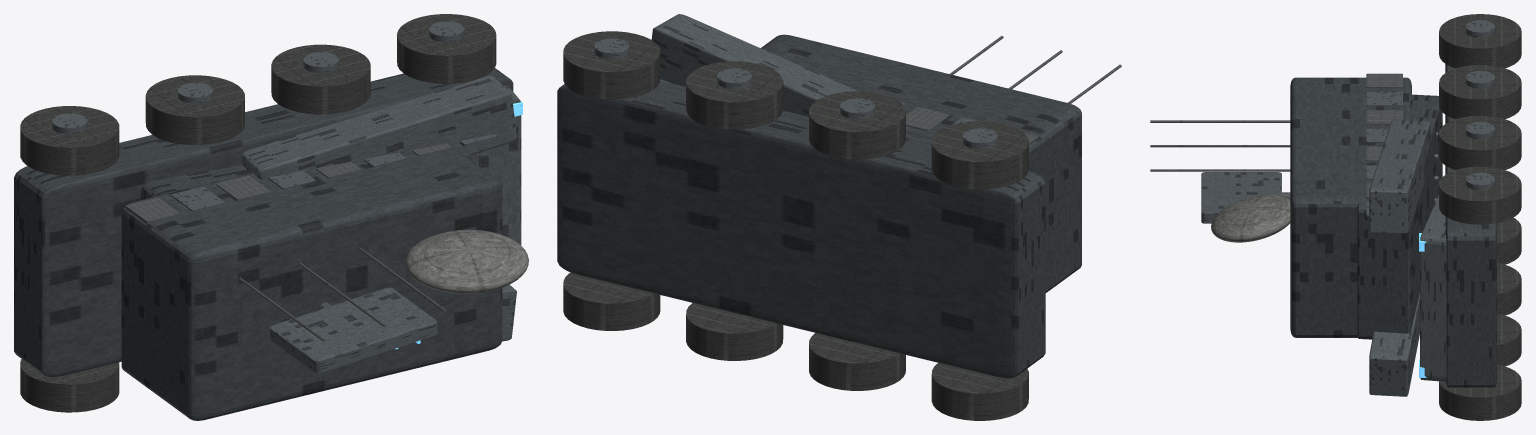
The model's file is s-u21-specter-command-vehicle-lod0.glb.
3 renders of one model, left to right at view 1: azimuth 30°, elevation 25°; view 2: azimuth 150°, elevation 25°; view 3: azimuth 270°, elevation 25°, orthographic. The views are drawn at different scales.
Parts seen in each view (by area): view 1: command_body, chassis_lower, stealth_cheek_1, command_array_array, command_dish, chassis_wheel_1_0, chassis_wheel_1_2, chassis_wheel_1_3, chassis_wheel_1_1, chassis_wheel_-1_0, chassis_nose, stealth_upper_hull (+9 smaller); view 2: chassis_lower, command_body, stealth_cheek_1, chassis_wheel_1_0, chassis_wheel_1_3, chassis_wheel_1_2, chassis_wheel_1_1, chassis_wheel_-1_0, chassis_wheel_-1_3, chassis_wheel_-1_2, chassis_wheel_-1_1, service_hatch_2 (+4 smaller); view 3: command_body, stealth_upper_hull, chassis_lower, stealth_cheek_1, chassis_nose, chassis_wheel_1_3, chassis_wheel_1_2, chassis_wheel_1_0, chassis_wheel_1_1, stealth_cheek_-1, chassis_wheel_-1_3, command_dish (+14 smaller).
Part boxes in pixels (x1,y1,x2,y2): command_body: [121, 147, 502, 420]; chassis_lower: [14, 68, 513, 376]; stealth_cheek_1: [241, 76, 516, 179]; command_array_array: [269, 287, 437, 373]; command_dish: [405, 229, 528, 293]; chassis_wheel_1_0: [20, 106, 119, 175]; chassis_wheel_1_2: [271, 44, 370, 114]; chassis_wheel_1_3: [397, 14, 496, 83]; chassis_wheel_1_1: [145, 75, 244, 145]; chassis_wheel_-1_0: [20, 359, 119, 412]; chassis_nose: [471, 86, 521, 245]; stealth_upper_hull: [141, 146, 472, 199]; chassis_lower: [557, 80, 1045, 378]; command_body: [761, 34, 1081, 292]; stealth_cheek_1: [651, 14, 857, 116]; chassis_wheel_1_0: [931, 121, 1028, 189]; chassis_wheel_1_3: [563, 31, 660, 99]; chassis_wheel_1_2: [686, 61, 783, 129]; chassis_wheel_1_1: [809, 91, 905, 159]; chassis_wheel_-1_0: [931, 363, 1028, 420]; chassis_wheel_-1_3: [563, 272, 660, 330]; chassis_wheel_-1_2: [686, 303, 783, 360]; chassis_wheel_-1_1: [809, 333, 905, 390]; service_hatch_2: [906, 106, 949, 130]; command_body: [1290, 77, 1411, 337]; stealth_upper_hull: [1357, 94, 1442, 339]; chassis_lower: [1445, 64, 1496, 387]; stealth_cheek_1: [1369, 119, 1430, 233]; chassis_nose: [1420, 194, 1446, 381]; chassis_wheel_1_3: [1439, 166, 1521, 224]; chassis_wheel_1_2: [1439, 115, 1521, 169]; chassis_wheel_1_0: [1439, 14, 1521, 68]; chassis_wheel_1_1: [1439, 65, 1521, 119]; stealth_cheek_-1: [1369, 293, 1419, 396]; chassis_wheel_-1_3: [1439, 364, 1521, 420]; command_dish: [1211, 195, 1290, 242].
Size of what is drawn, in the model's own units: 6.46 by 3.63 by 5.31.
Materials: 7 (7 with a texture image).
